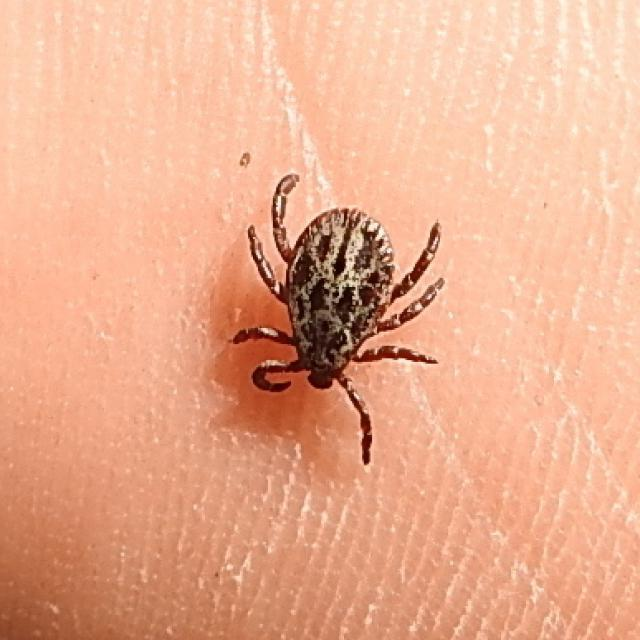Dermacentor Reticulatus-M: (230, 176, 447, 467)
